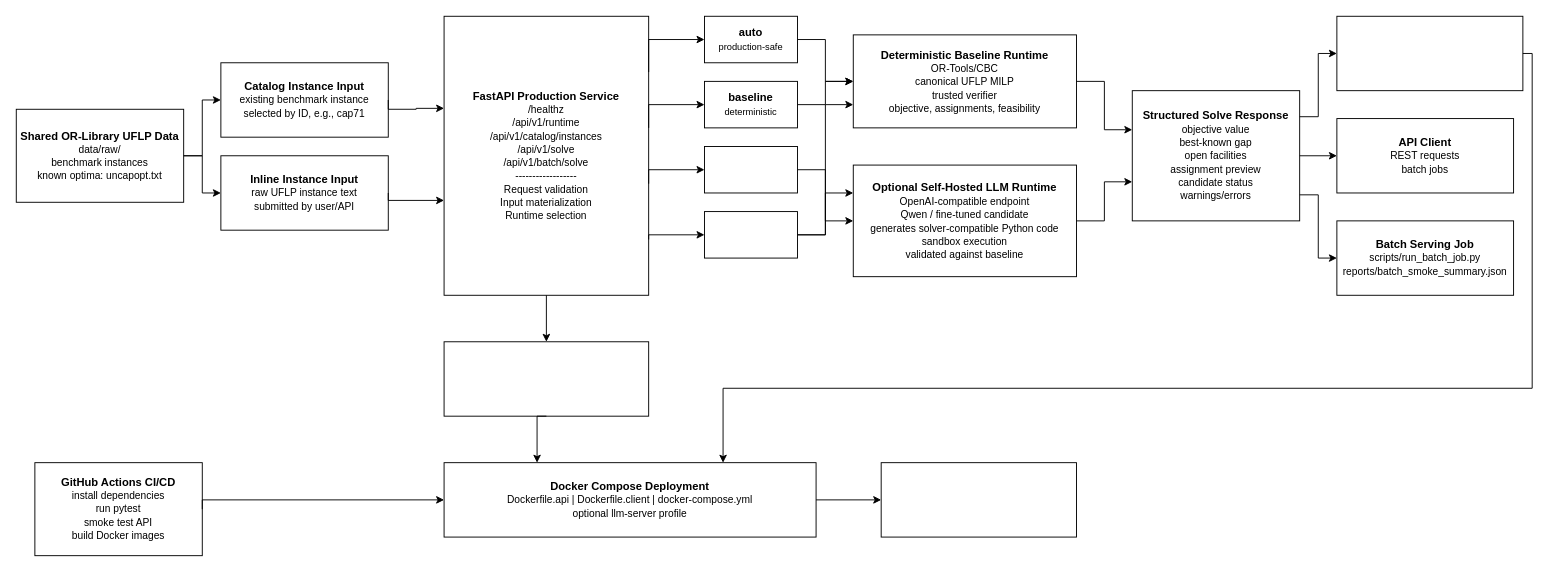
Some shapes in this 1556 by 572 pixel diagram are drawn without their labels. Each missing label, with the centre of its shape:
compare side-by-side: the point at 750,234
Linux VM / DigitalOcean-style Host: the point at 978,499
llm symbolic gen: the point at 750,169
MLflow PyFunc Runtime package_mlflow_runtime.py m5-uflp-production-runtime: the point at 546,378
Streamlit Frontend catalog solve inline solve mode selection: the point at 1429,53
